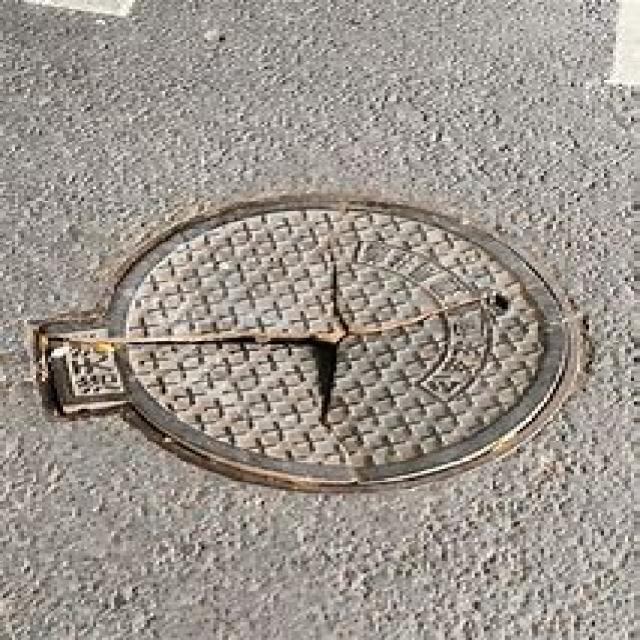manhole: (26, 187, 586, 498)
